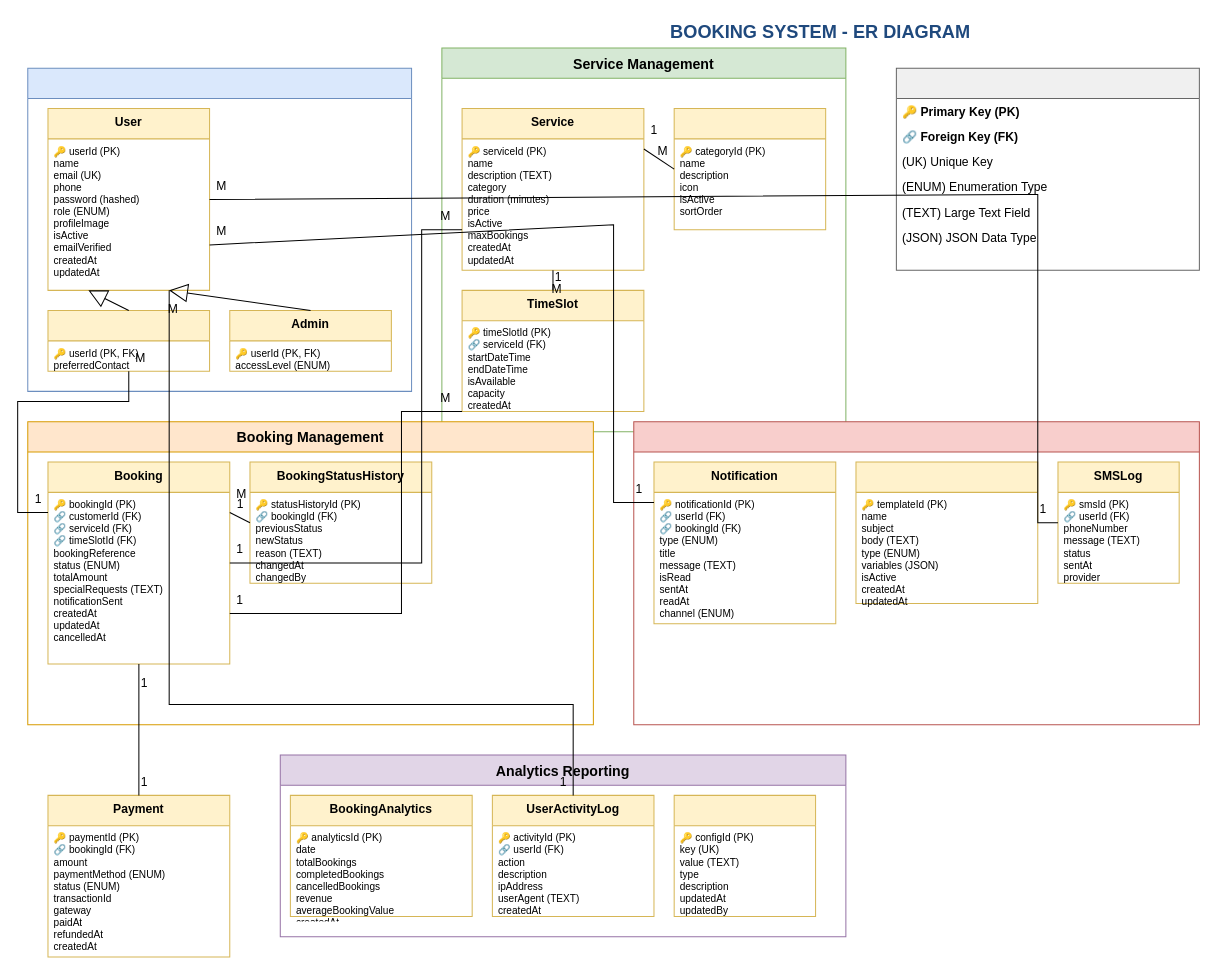
Image size: 1217x977. Some labels were removed from this diagram. Each missing label, with the box of its shape:
Communication System: (633, 421, 1199, 725)
Customer: (47, 310, 210, 371)
EmailTemplate: (855, 461, 1038, 603)
LEGEND: (895, 67, 1199, 270)
ServiceCategory: (673, 108, 826, 230)
SystemConfiguration: (673, 794, 816, 917)
User Management: (27, 67, 412, 391)
